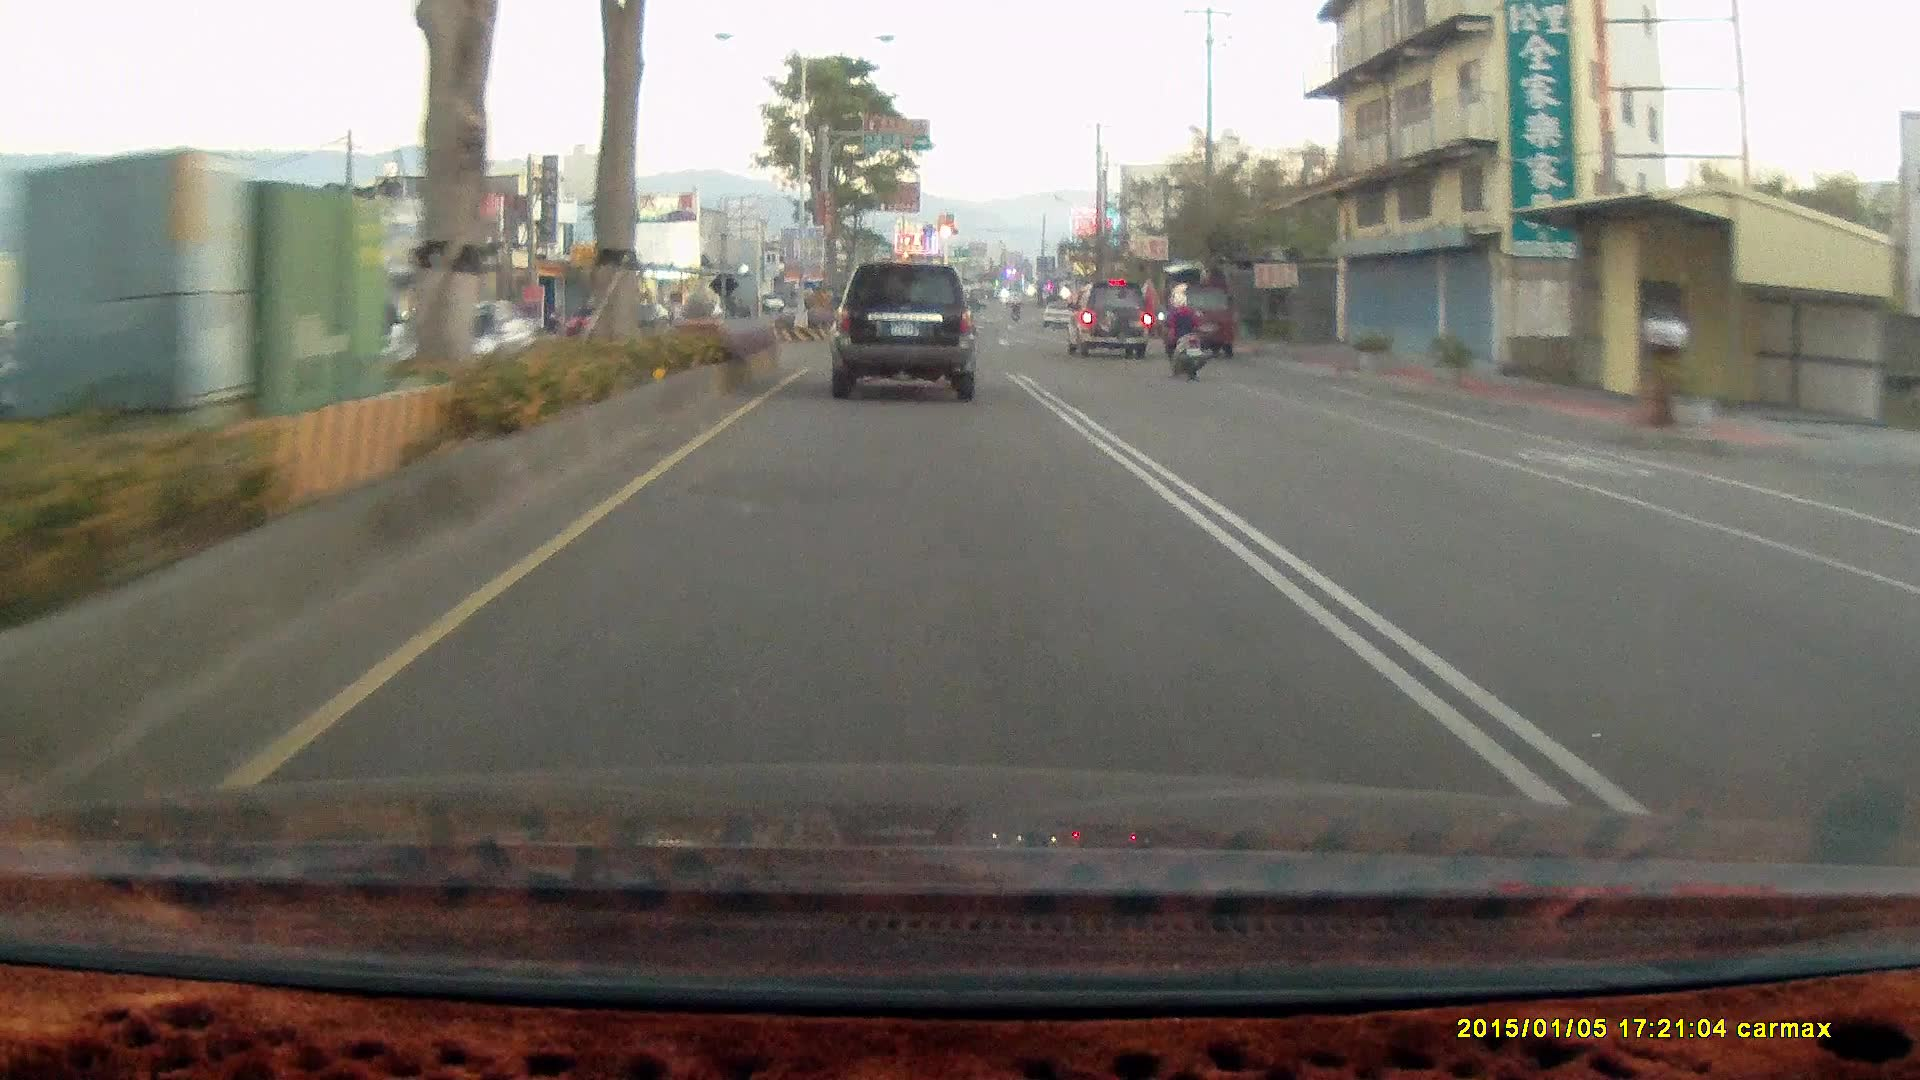rider: (1147, 281, 1217, 388), (1152, 289, 1203, 378)
vehicle: (831, 256, 983, 406), (829, 263, 981, 401), (1071, 279, 1160, 359), (1061, 278, 1149, 355), (1163, 281, 1240, 362), (1162, 279, 1235, 355)
